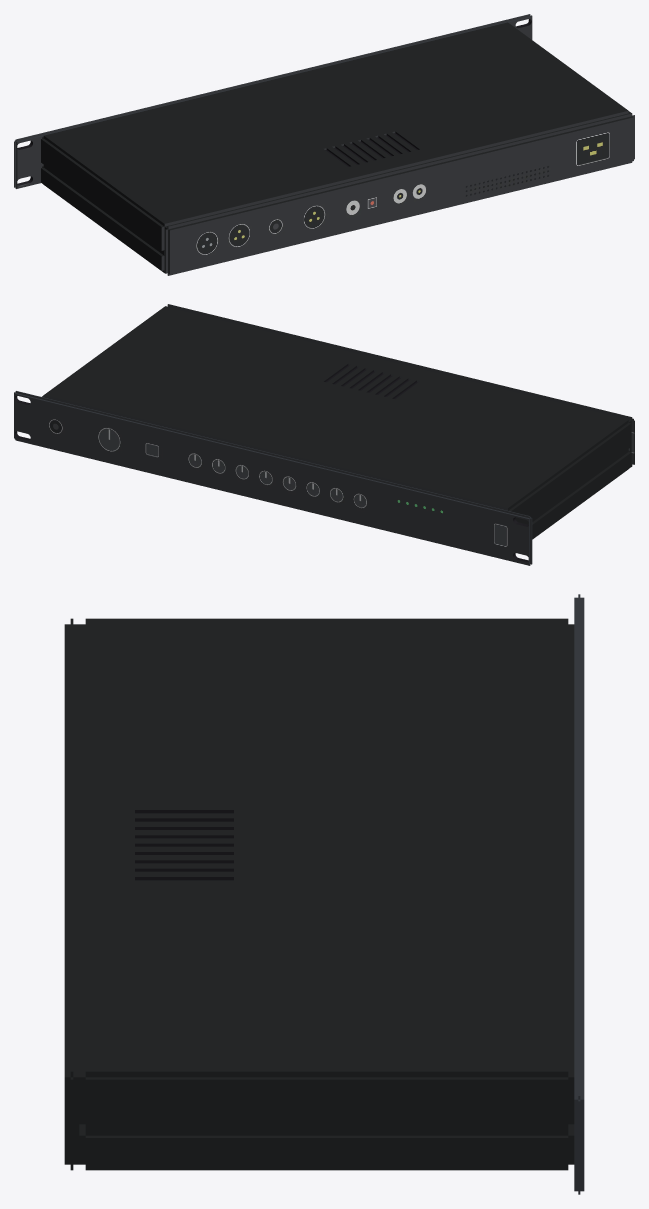
File: aphex-channel.glb
3 views of the same model, one above another, from view 1: azimuth 30°, elevation 25°; view 2: azimuth 150°, elevation 25°; view 3: azimuth 270°, elevation 25° (orthographic). The views are drawn at different scales.
Visible parts, largest first — view 1: aphex-channel-body; view 2: aphex-channel-body; view 3: aphex-channel-body.
Boxes of the visible parts, x1,y1,x2,y2 form: aphex-channel-body: [14, 14, 634, 275]; aphex-channel-body: [14, 304, 634, 565]; aphex-channel-body: [64, 594, 584, 1194].
Size of the model in its own units: 0.483 by 0.044 by 0.21.
1 material, 1 textured.
